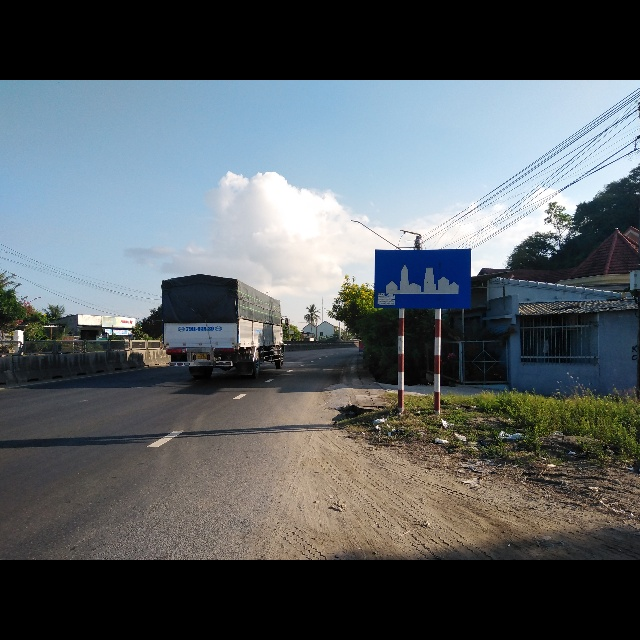Khu đông dân cư: (372, 247, 471, 311)
